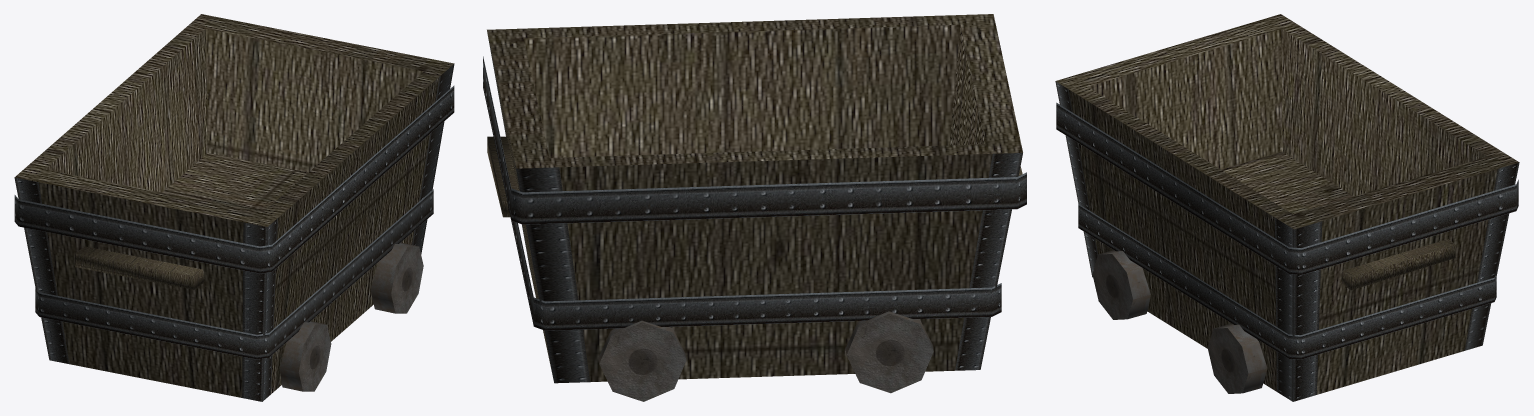
The model's file is cart_hit.glb.
3 renders of one model, left to right at view 1: azimuth 30°, elevation 25°; view 2: azimuth 150°, elevation 25°; view 3: azimuth 270°, elevation 25°, orthographic. The views are drawn at different scales.
Parts seen in each view (by area): view 1: wall_wood1.jpg__, modern_mine_beam.jpg__, metal_rusted_circle.jpg__, metal_rusted.jpg__; view 2: wall_wood1.jpg__, modern_mine_beam.jpg__, metal_rusted_circle.jpg__, metal_rusted.jpg__; view 3: wall_wood1.jpg__, modern_mine_beam.jpg__, metal_rusted_circle.jpg__, metal_rusted.jpg__.
Boxes of the visible parts, x1,y1,x2,y2 form: wall_wood1.jpg__: [14, 14, 454, 397]; modern_mine_beam.jpg__: [14, 64, 454, 401]; metal_rusted_circle.jpg__: [298, 246, 423, 391]; metal_rusted.jpg__: [280, 242, 418, 391]; wall_wood1.jpg__: [487, 14, 1022, 381]; modern_mine_beam.jpg__: [483, 33, 1026, 383]; metal_rusted_circle.jpg__: [599, 314, 933, 401]; metal_rusted.jpg__: [598, 311, 933, 363]; wall_wood1.jpg__: [1056, 14, 1519, 394]; modern_mine_beam.jpg__: [1055, 81, 1519, 401]; metal_rusted_circle.jpg__: [1092, 254, 1248, 393]; metal_rusted.jpg__: [1098, 250, 1267, 393].
Size of the model in its own units: 6.48 by 2.85 by 5.9.
Materials: 4 (4 with a texture image).
